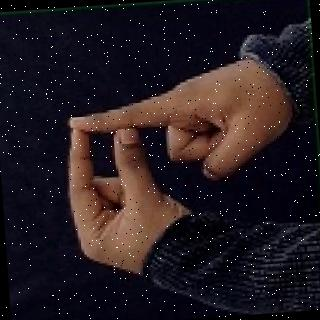P: (35, 49, 298, 282)
